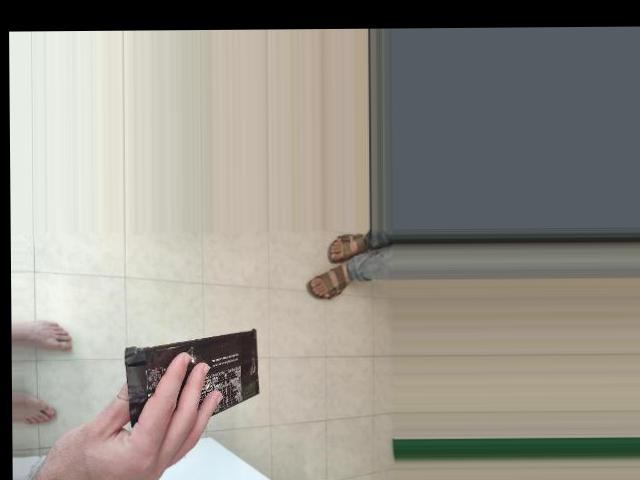chocolate: (178, 212, 297, 378)
